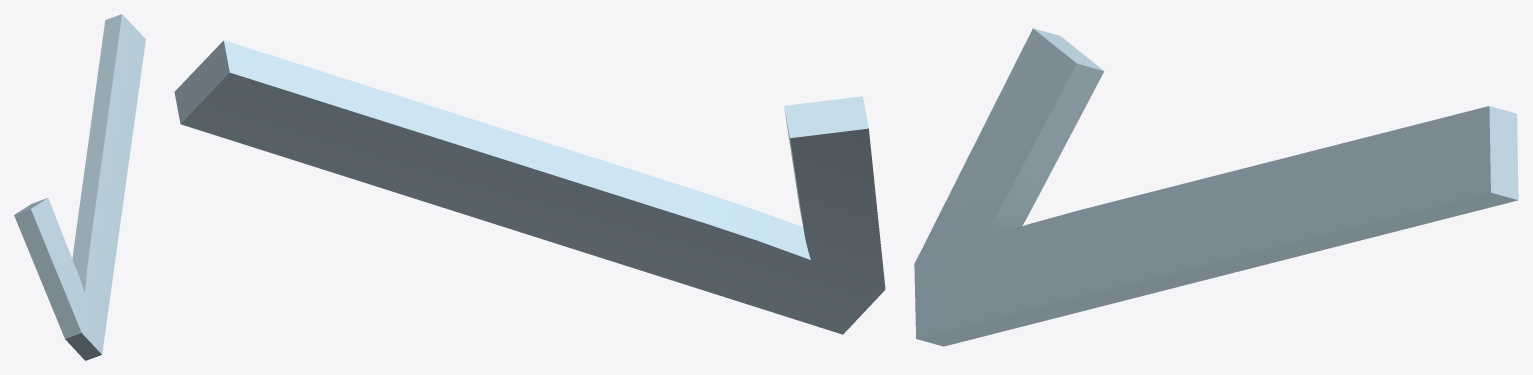
The model's file is Number_1.gltf.
3 renders of one model, left to right at view 1: azimuth 30°, elevation 25°; view 2: azimuth 150°, elevation 25°; view 3: azimuth 270°, elevation 25°, orthographic. The views are drawn at different scales.
Visible parts, largest first — view 1: Sub_4_Cell_2_1_Number_1; view 2: Sub_4_Cell_2_1_Number_1; view 3: Sub_4_Cell_2_1_Number_1.
Boxes of the visible parts, left/top/right/bottom form: Sub_4_Cell_2_1_Number_1: left=14, top=14, right=145, bottom=360; Sub_4_Cell_2_1_Number_1: left=174, top=40, right=885, bottom=334; Sub_4_Cell_2_1_Number_1: left=914, top=28, right=1518, bottom=346.
Bounding box in the file's own units: 0.0173 × 0.0141 × 0.0189.
